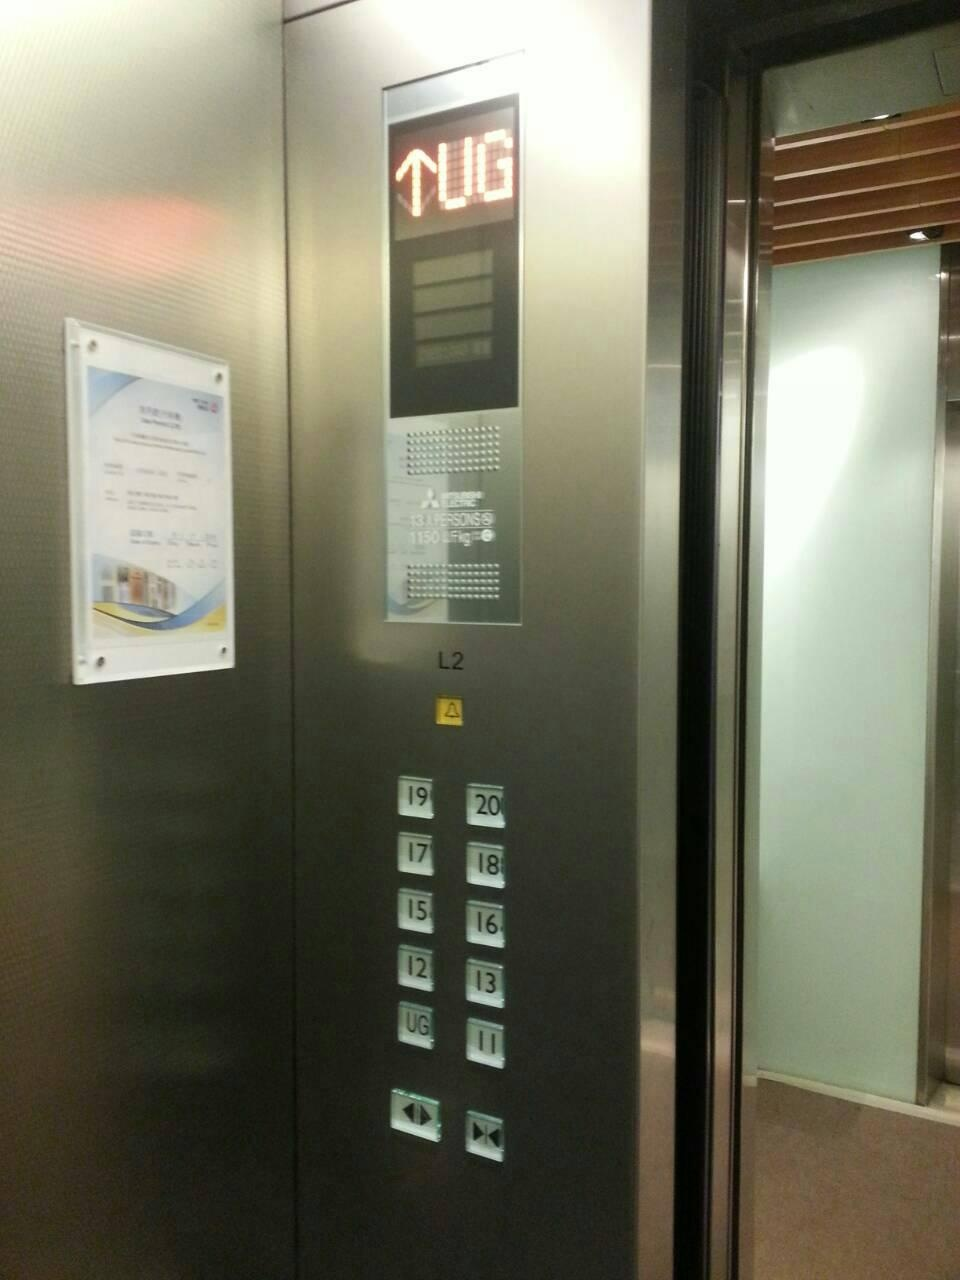11: (464, 1018, 505, 1068)
12: (397, 944, 432, 990)
13: (464, 958, 504, 1007)
15: (397, 889, 435, 933)
16: (466, 901, 504, 947)
17: (398, 831, 433, 875)
18: (462, 840, 509, 889)
19: (395, 776, 435, 821)
20: (465, 781, 506, 830)
UG: (396, 1003, 433, 1047)
alarm: (432, 696, 466, 728)
close: (464, 1111, 504, 1161)
led: (388, 92, 521, 423)
open: (389, 1089, 441, 1143)
